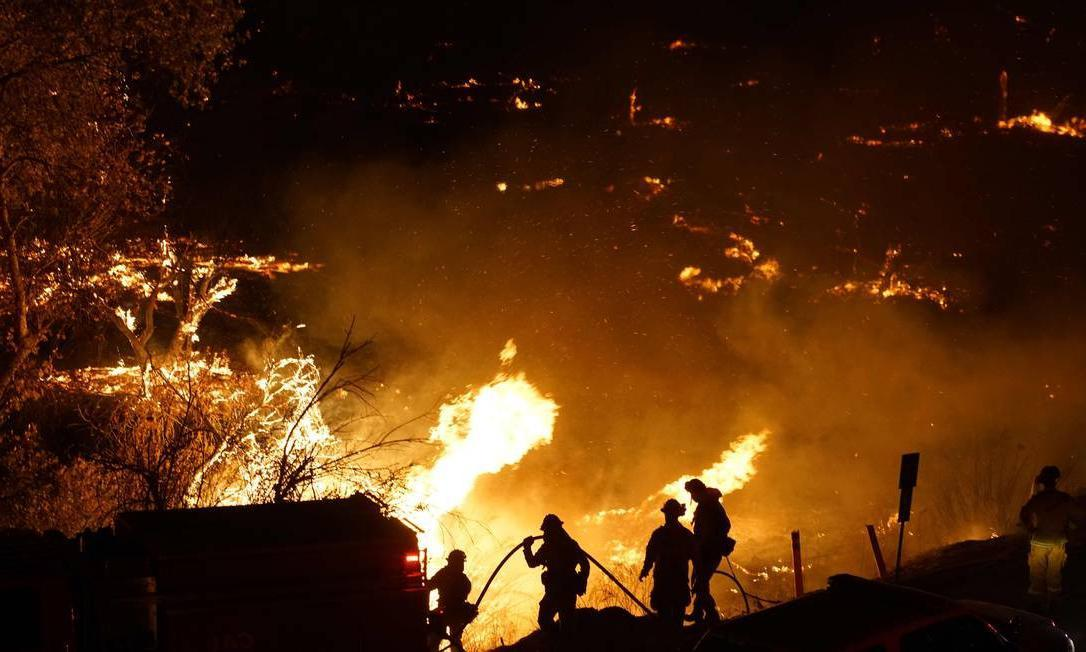Fire: (74, 237, 323, 508), (383, 347, 567, 539), (635, 420, 783, 526), (664, 224, 789, 303), (824, 247, 963, 313), (995, 102, 1086, 149)
